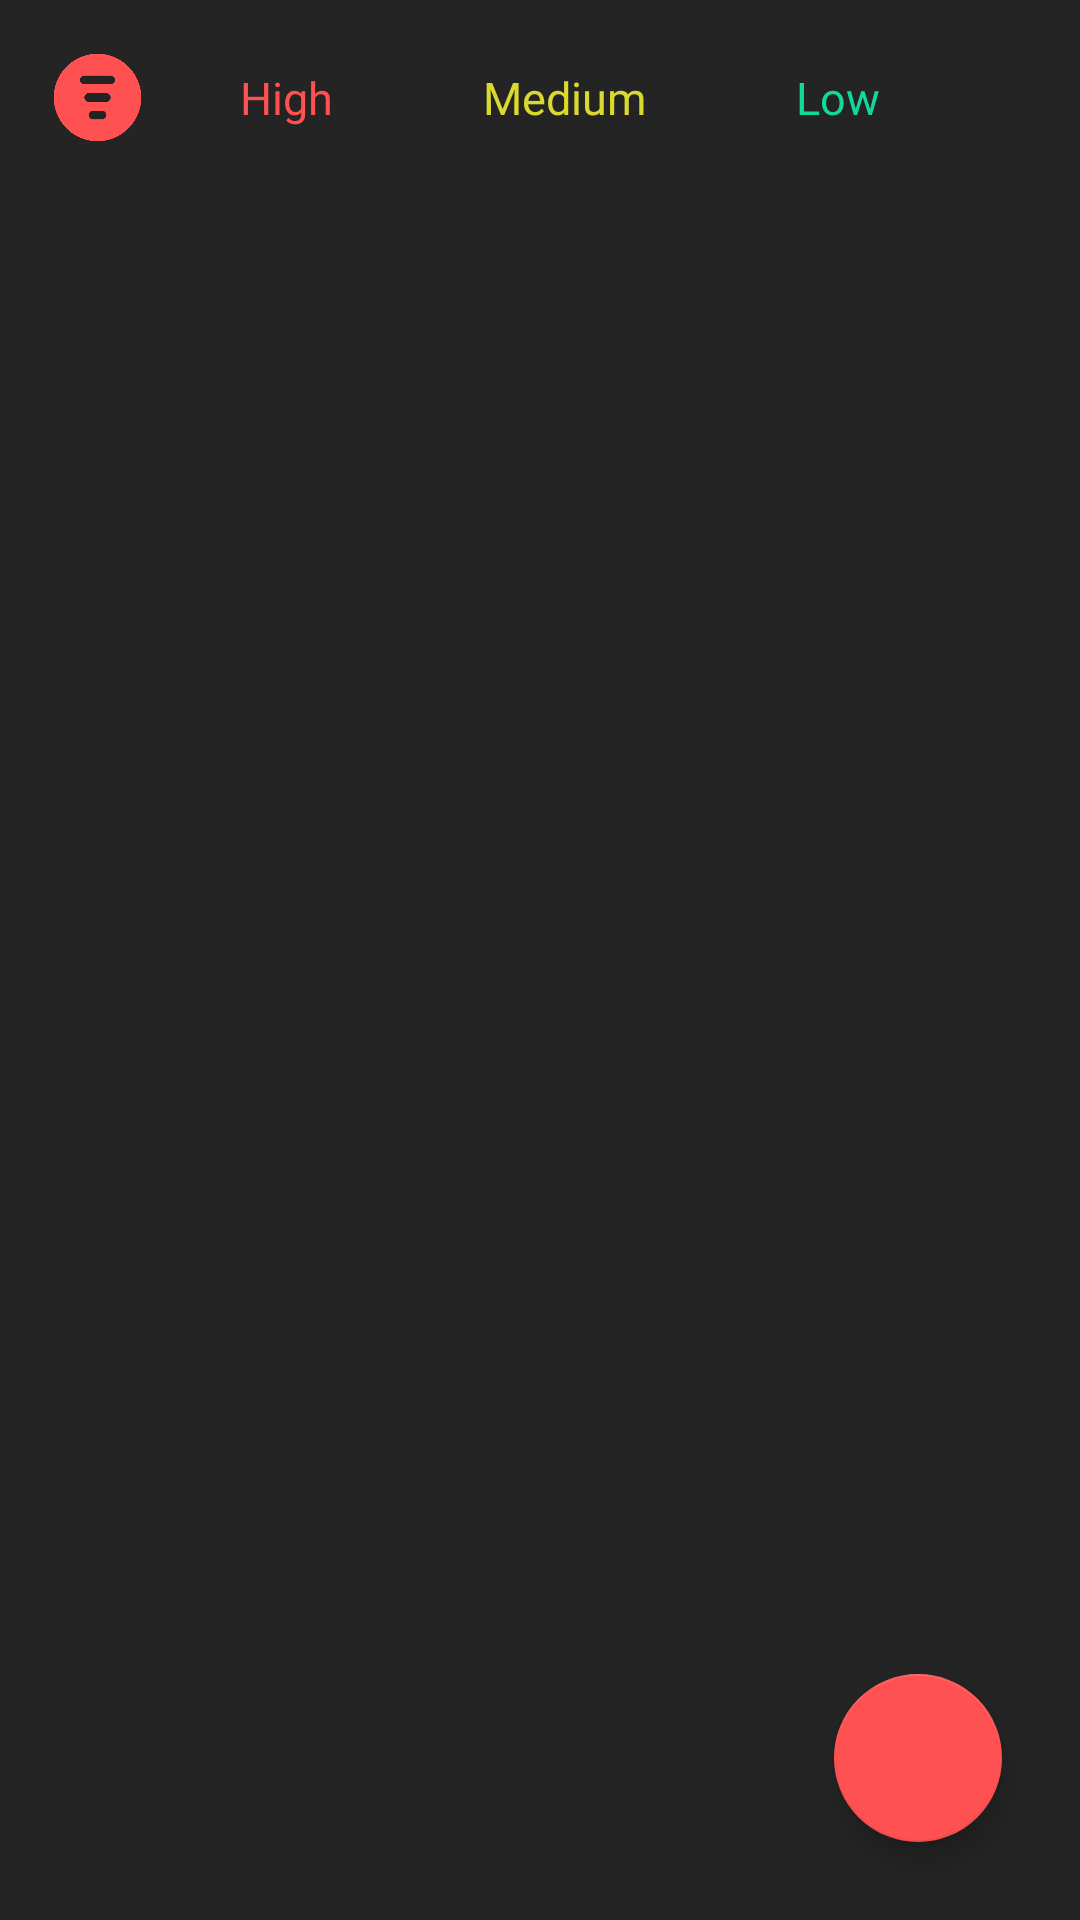

Where icons sit on this 1080×1920 app screen, as (x1, y1, x2, y2):
filter: (54, 54, 141, 141)
